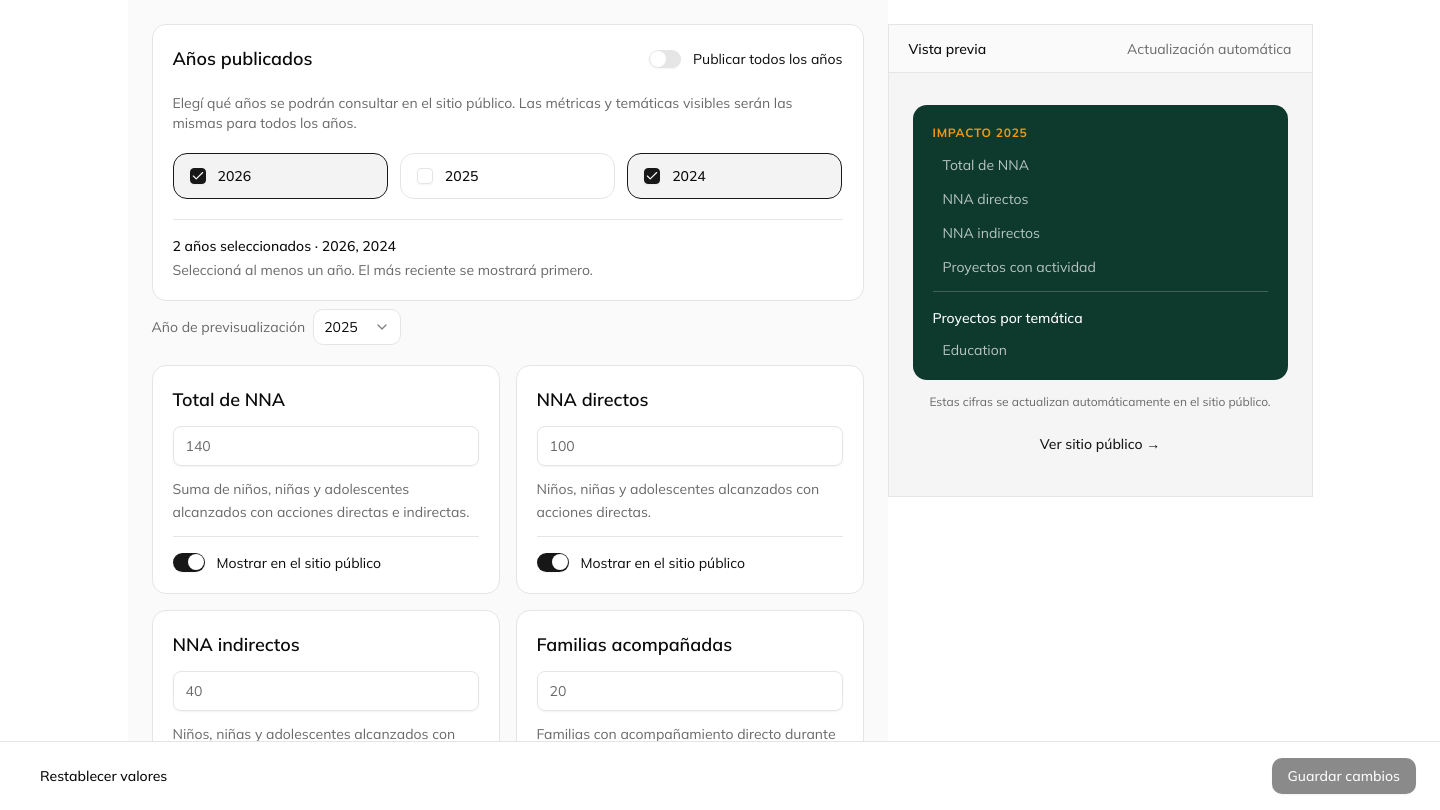
Test: clears the pending indicator after saving and detects subsequent edits
The width and height of the screenshot is (1440, 810).
Click the 3rd checkbox named "2024": (652, 176) [644,168,660,184]
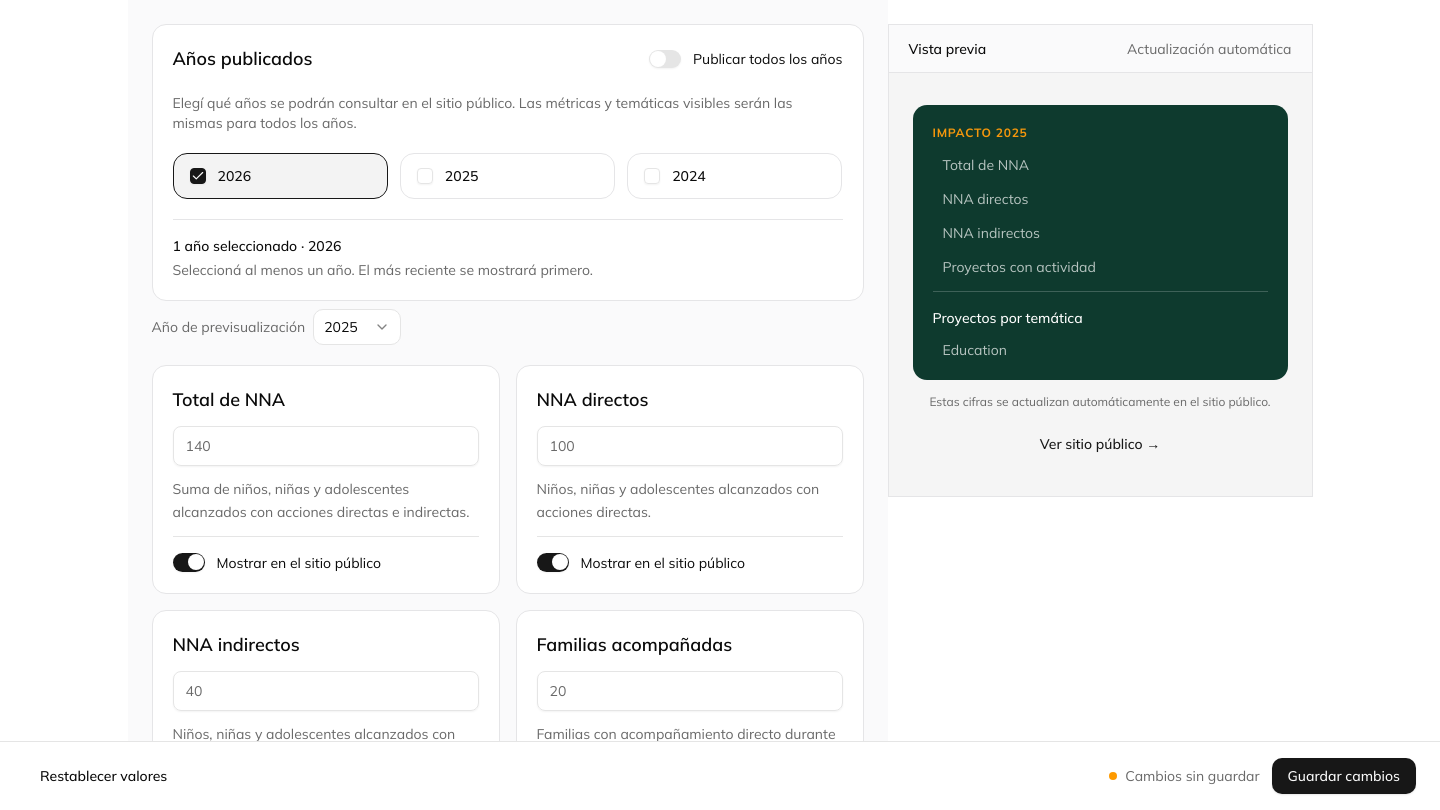
Click the button "Guardar cambios": (1344, 776) [1272,758,1416,794]
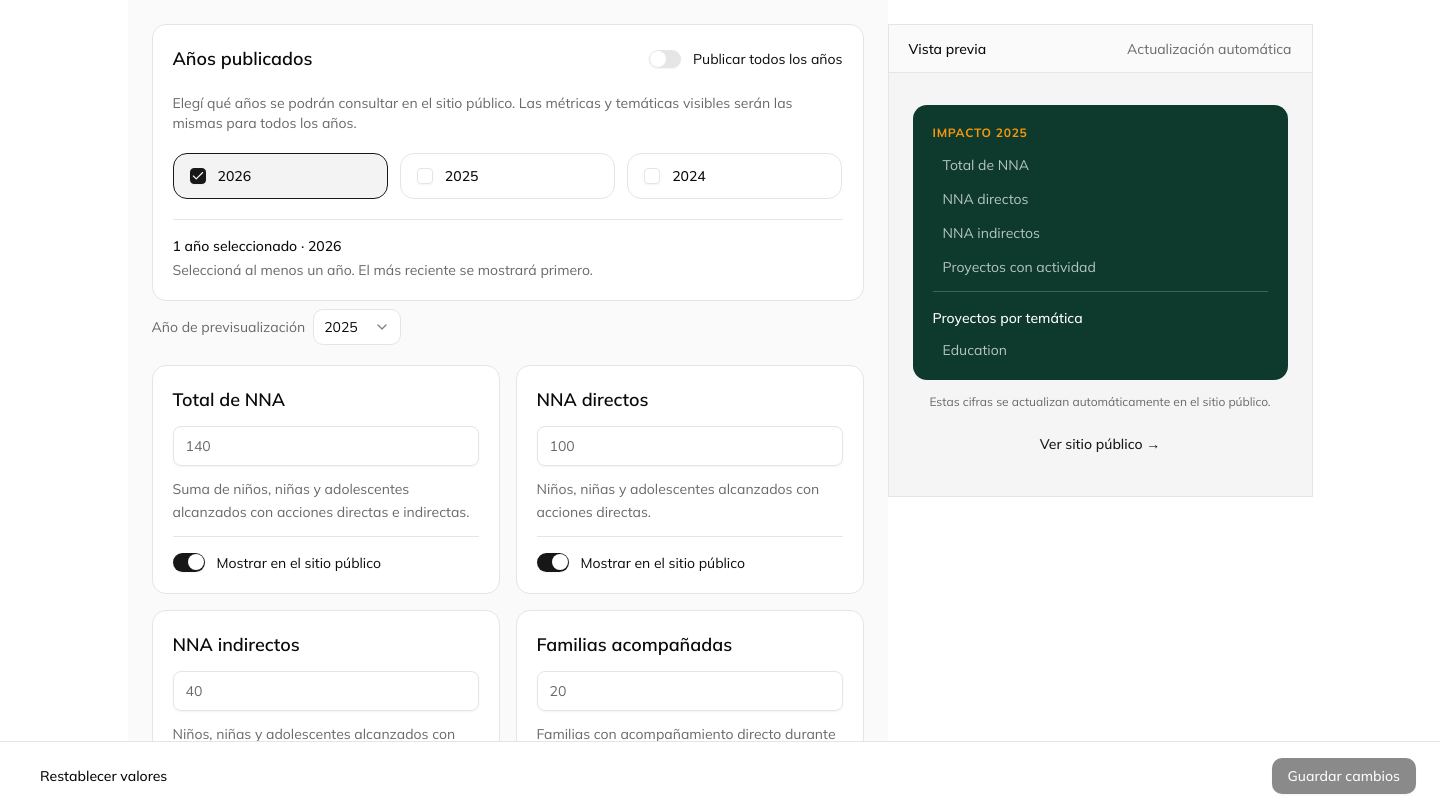
Expected: the text "Cambios sin guardar" is gone
Expected: the button "Guardar cambios" is disabled, [1272,758,1416,794]
Click the checkbox named "2024" next to "2024": (652, 176) [644,168,660,184]
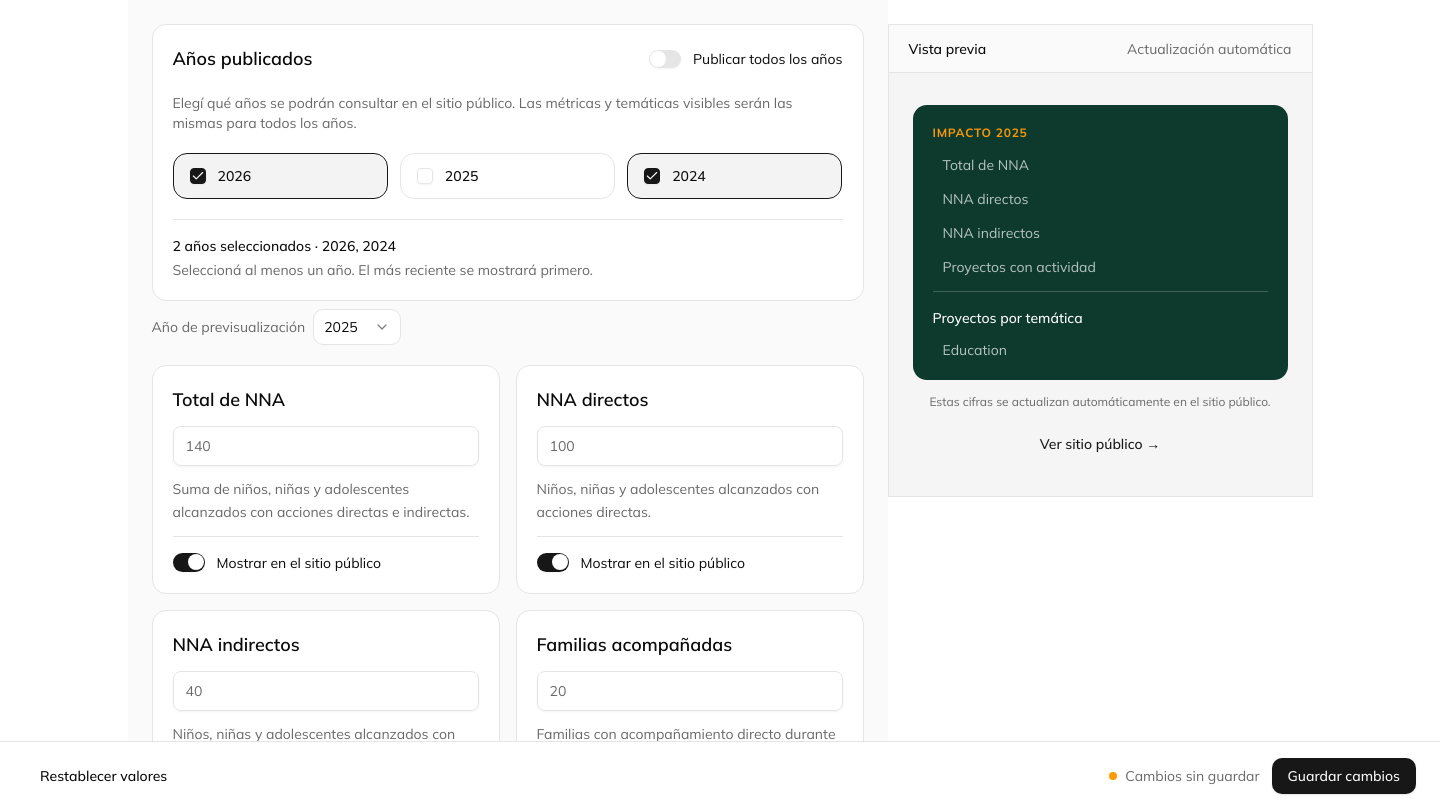
Expected: the text "Cambios sin guardar" is shown, [1109,766,1260,786]
